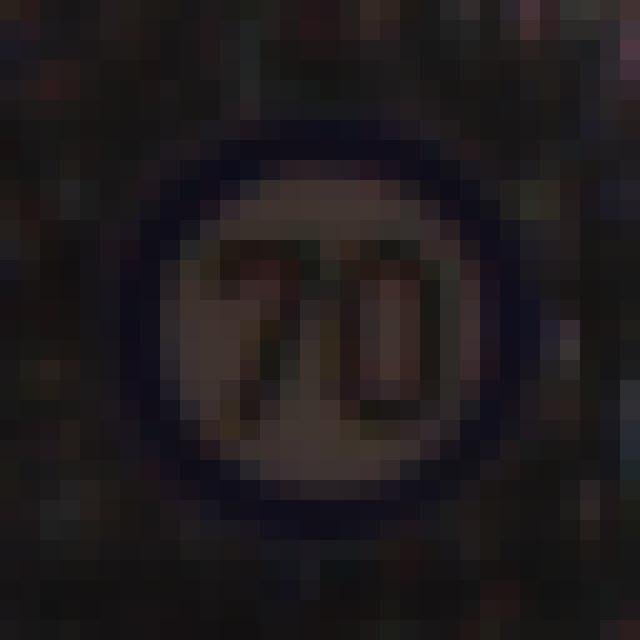SPEED LIMIT 70: (122, 125, 530, 532)
